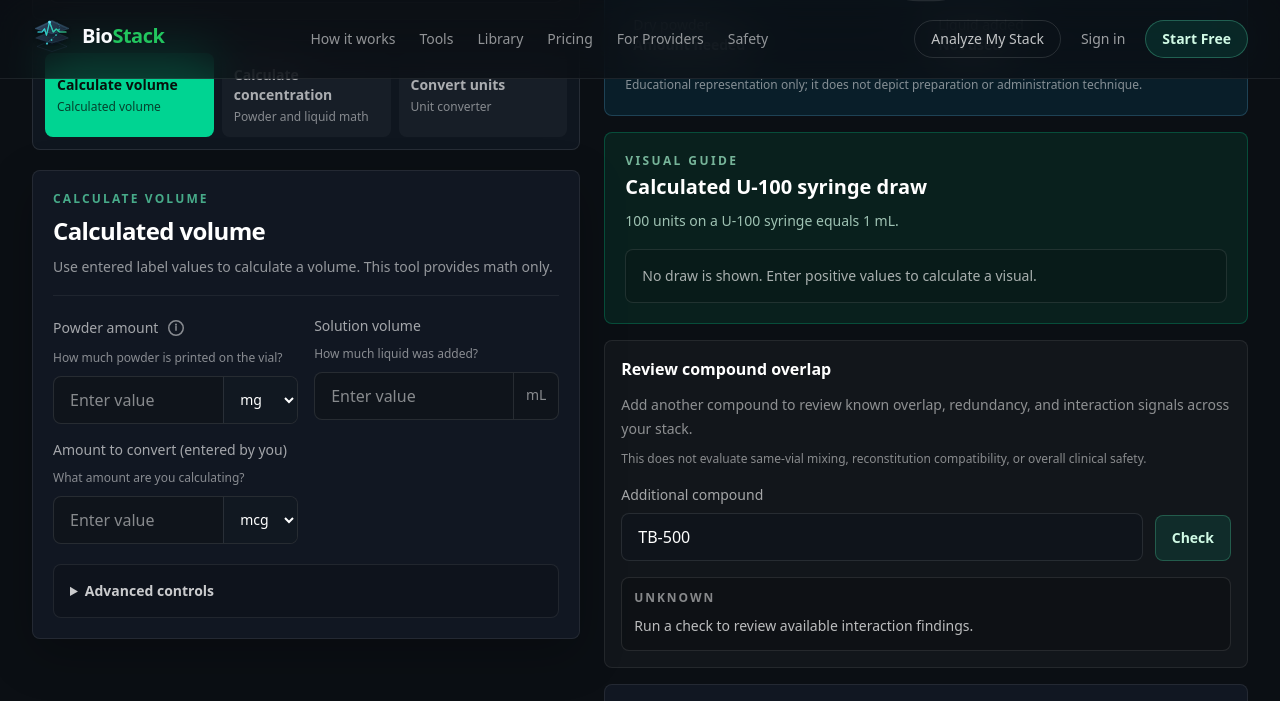
Test: active /tools calculator visuals › replaces the syringe meter with a clear incomplete state for zero input
(page scrolled)
Type "5" into the number field named "Powder amount" at [139, 400], box [54, 376, 223, 422]
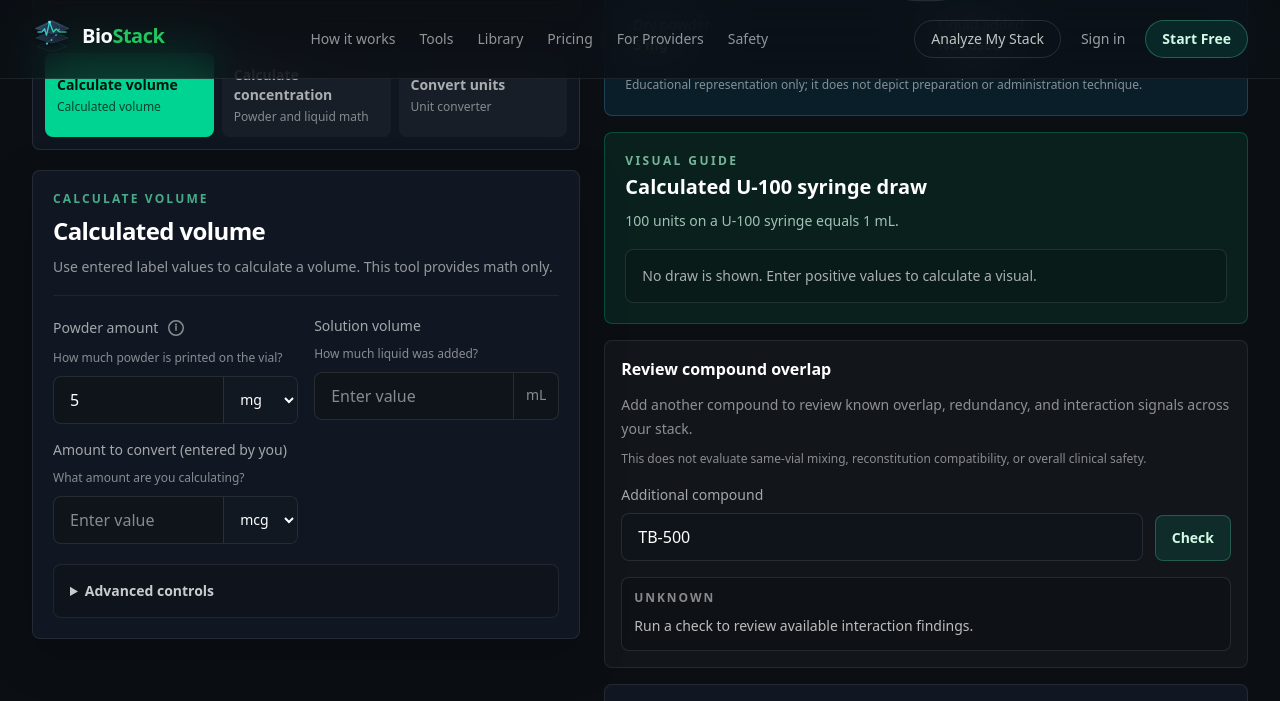
Type "2" into the number field labelled "Solution volume How much liquid was added? mL" at [414, 396], box [315, 372, 513, 418]
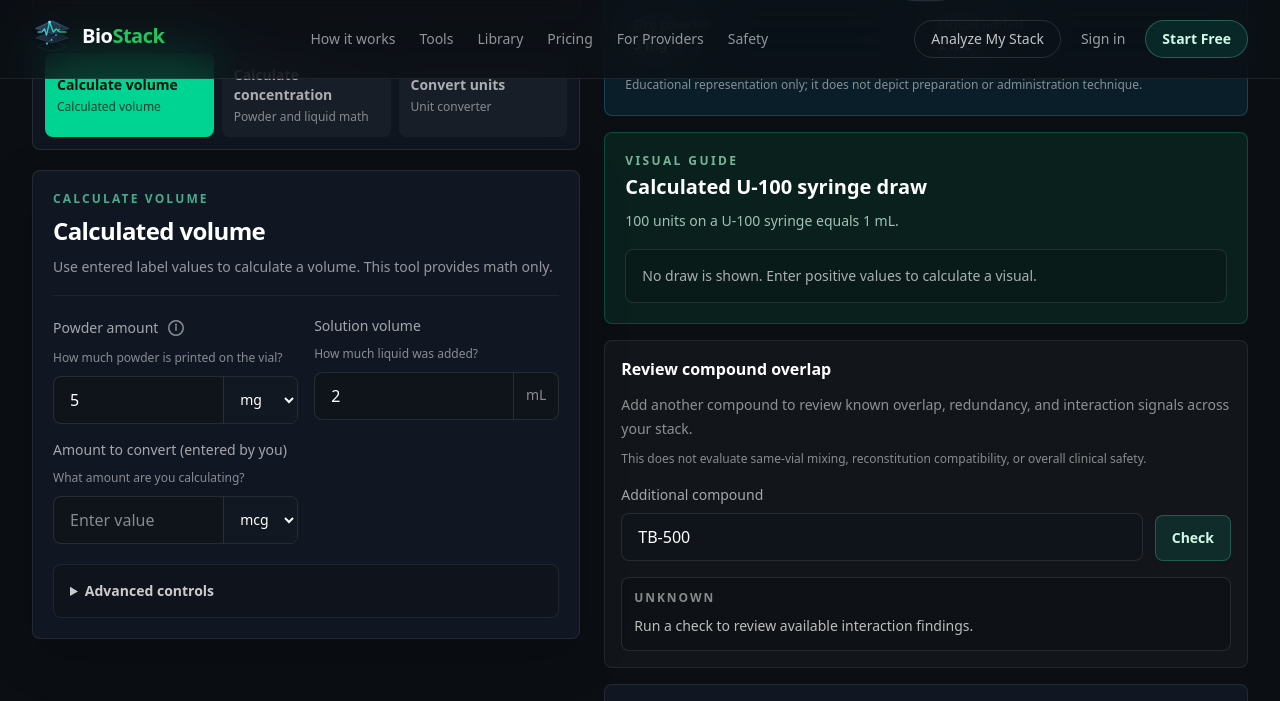
Type "250" into the 3rd number field at [139, 520], box [54, 496, 223, 542]
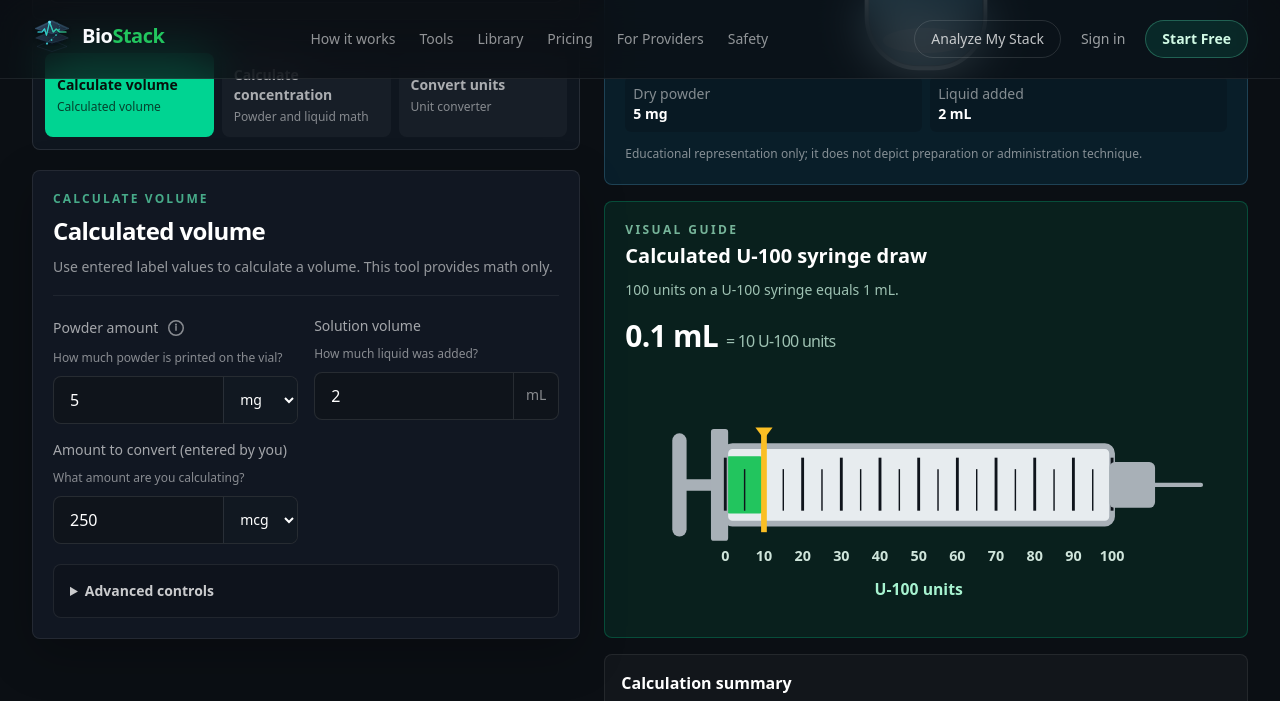
Expected: the element named "calculated draw" is shown, [625, 366, 1227, 617]
Replace the text in the 3rd number field with "0" at [139, 520], box [54, 496, 223, 542]
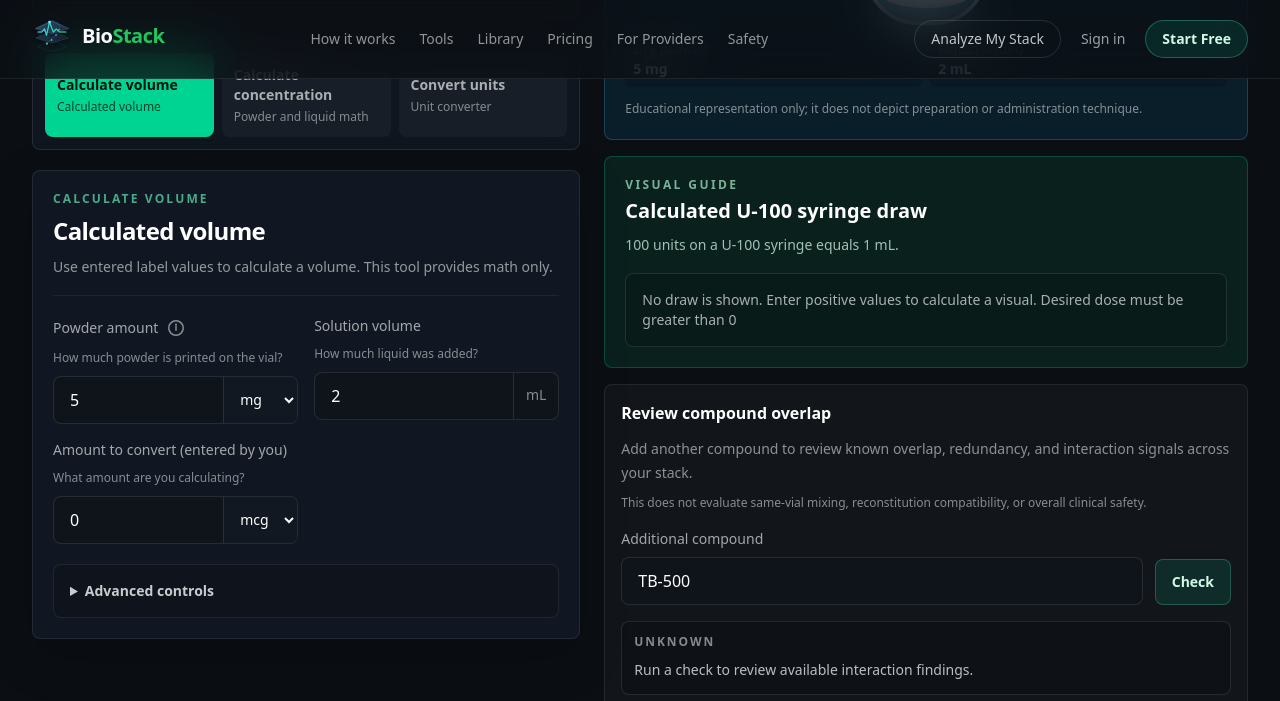
Expected: the message shows "No draw is shown", [642, 290, 1040, 309]
